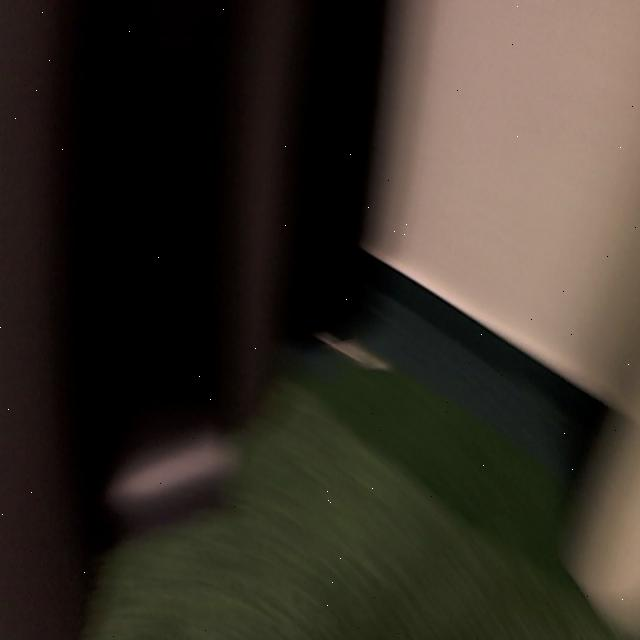goalpost: (555, 380, 638, 634)
